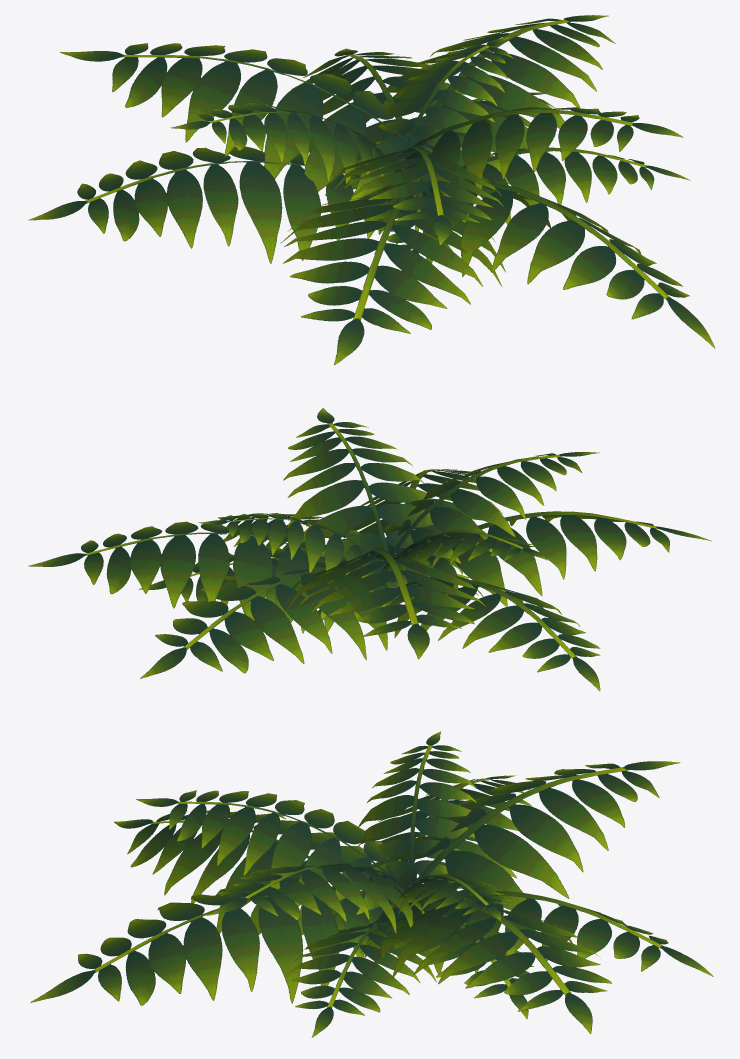
File: SM_Foliage_Fern.FBX
The picture shows the model from 3 angles, top to bottom: view 1: azimuth 30°, elevation 25°; view 2: azimuth 150°, elevation 25°; view 3: azimuth 270°, elevation 25°; orthographic projection. The views are drawn at different scales.
Parts seen in each view (by area): view 1: Fern_LP010, Fern_LP012, Fern_LP001, Fern_LP004, Fern_LP017, Fern_LP016, Fern_LP014, Fern_LP015, Fern_LP002, Fern_LP005, Fern_LP008, Fern_LP013; view 2: Fern_LP008, Fern_LP017, Fern_LP016, Fern_LP010, Fern_LP012, Fern_LP014, Fern_LP001, Fern_LP015, Fern_LP002, Fern_LP004, Fern_LP006, Fern_LP005; view 3: Fern_LP004, Fern_LP010, Fern_LP017, Fern_LP014, Fern_LP002, Fern_LP005, Fern_LP016, Fern_LP012, Fern_LP008, Fern_LP001, Fern_LP015, Fern_LP006.
Part boxes in pixels (x1,y1,x2,y2): Fern_LP010: (60, 43, 431, 201); Fern_LP012: (280, 193, 505, 364); Fern_LP001: (28, 146, 384, 263); Fern_LP004: (378, 178, 715, 348); Fern_LP017: (355, 15, 615, 195); Fern_LP016: (383, 107, 683, 200); Fern_LP014: (327, 146, 503, 245); Fern_LP015: (375, 37, 513, 154); Fern_LP002: (170, 103, 388, 184); Fern_LP005: (461, 147, 690, 224); Fern_LP008: (289, 48, 499, 208); Fern_LP013: (362, 179, 469, 254); Fern_LP008: (140, 560, 416, 678); Fern_LP017: (28, 521, 361, 622); Fern_LP016: (283, 408, 434, 582); Fern_LP010: (280, 548, 486, 659); Fern_LP012: (398, 511, 711, 606); Fern_LP014: (375, 452, 599, 572); Fern_LP001: (379, 576, 600, 691); Fern_LP015: (198, 513, 376, 577); Fern_LP002: (381, 530, 547, 576); Fern_LP004: (340, 469, 502, 578); Fern_LP006: (138, 547, 387, 633); Fern_LP005: (218, 513, 383, 572); Fern_LP004: (30, 884, 369, 1005); Fern_LP010: (376, 761, 680, 925); Fern_LP017: (360, 898, 611, 1033); Fern_LP014: (136, 790, 406, 914); Fern_LP002: (358, 731, 476, 876); Fern_LP005: (290, 921, 441, 1037); Fern_LP016: (207, 863, 424, 933); Fern_LP012: (114, 810, 410, 943); Fern_LP008: (368, 891, 713, 976); Fern_LP001: (358, 775, 532, 899); Fern_LP015: (389, 874, 511, 921); Fern_LP006: (358, 908, 533, 1019).
Bounding box in the file's own units: 121 × 26.21 × 125.
1 material, 1 textured.
